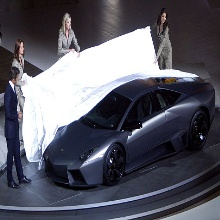no damage: (43, 78, 215, 186)
